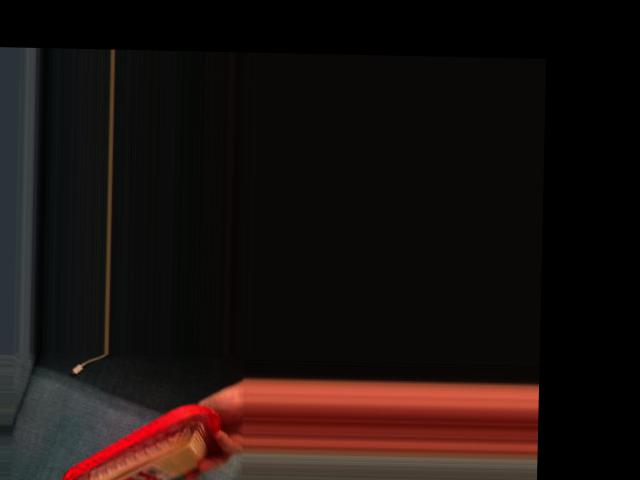cheese: (58, 396, 227, 480)
